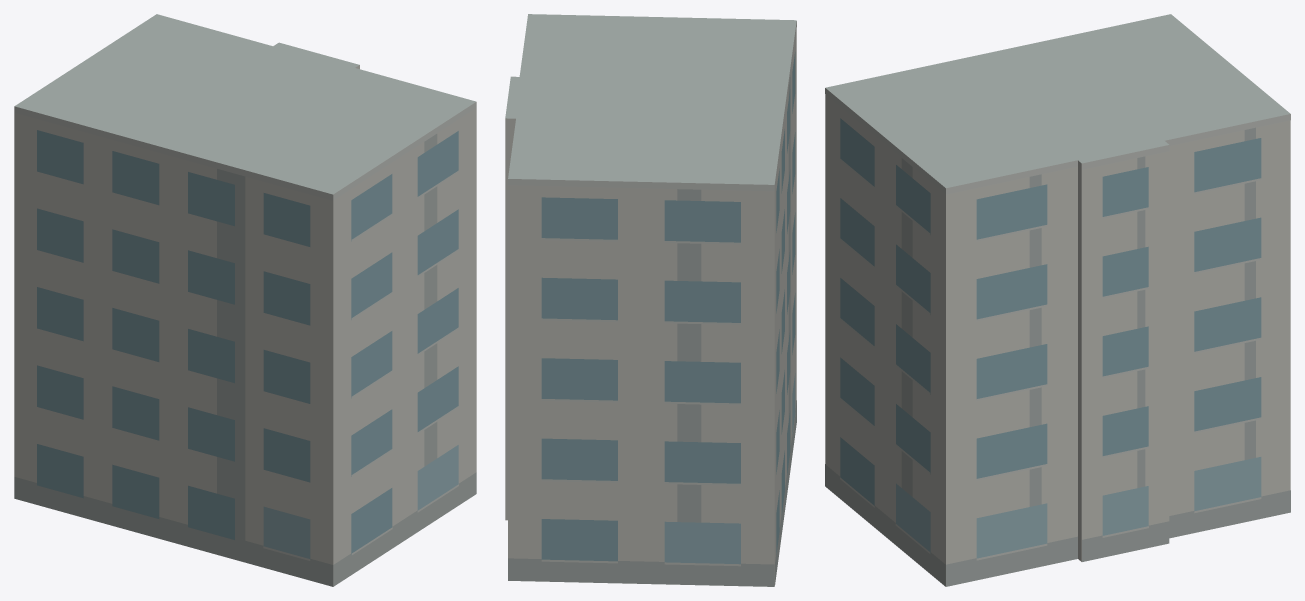
File: residential-dfbf5647-6e42-4307-bbcb-d6a21f3dc820.glb
3 renders of one model, left to right at view 1: azimuth 30°, elevation 25°; view 2: azimuth 150°, elevation 25°; view 3: azimuth 270°, elevation 25°, orthographic. The views are drawn at different scales.
Visible parts, largest first — view 1: residential-dfbf5647-6e42-4307-bbcb-d6a21f3dc820.tmp; view 2: residential-dfbf5647-6e42-4307-bbcb-d6a21f3dc820.tmp; view 3: residential-dfbf5647-6e42-4307-bbcb-d6a21f3dc820.tmp.
Part boxes in pixels (<box>): residential-dfbf5647-6e42-4307-bbcb-d6a21f3dc820.tmp: <box>14,14,476,586</box>; residential-dfbf5647-6e42-4307-bbcb-d6a21f3dc820.tmp: <box>505,14,796,586</box>; residential-dfbf5647-6e42-4307-bbcb-d6a21f3dc820.tmp: <box>825,14,1290,586</box>.
Bounding box in the file's own units: 14.31 × 15.25 × 16.15.
